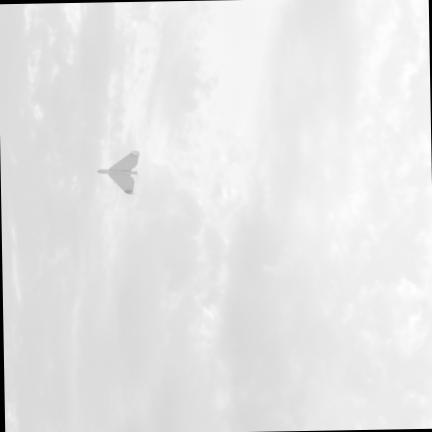Shahed: (96, 151, 138, 194)
